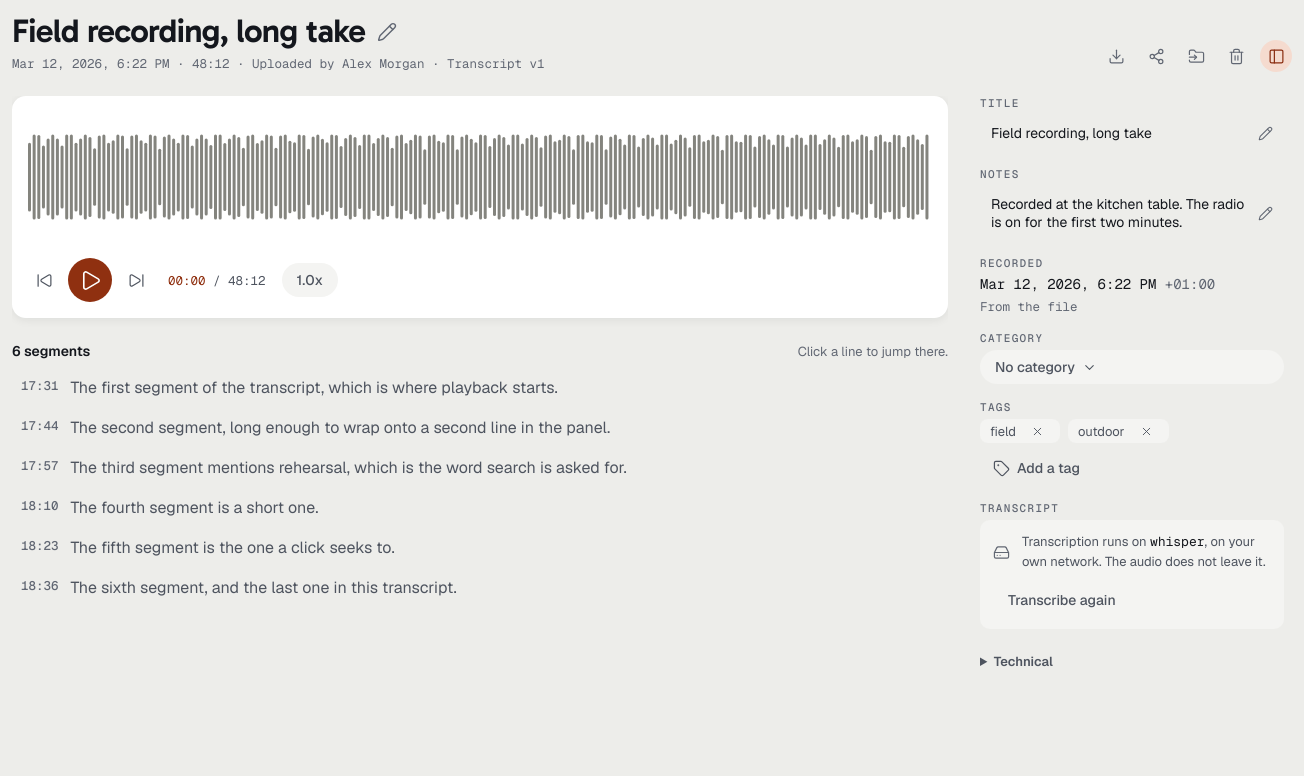
Test: the hash › copies, so the original can actually be checked
This screenshot has width=1304, height=776.
Click the heading "Technical": (1023, 662) [994,653,1053,670]
(page scrolled)
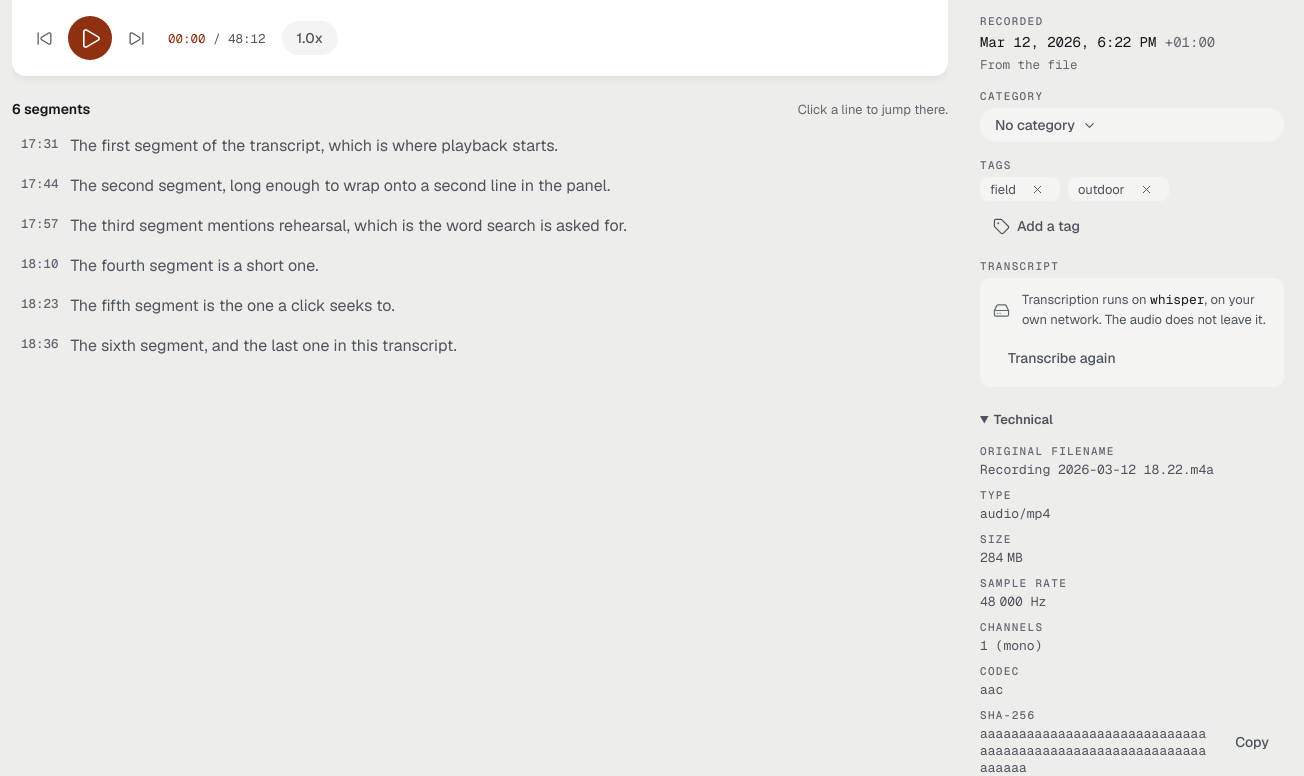
Click the button "Copy": (1252, 742) [1220,725,1284,759]
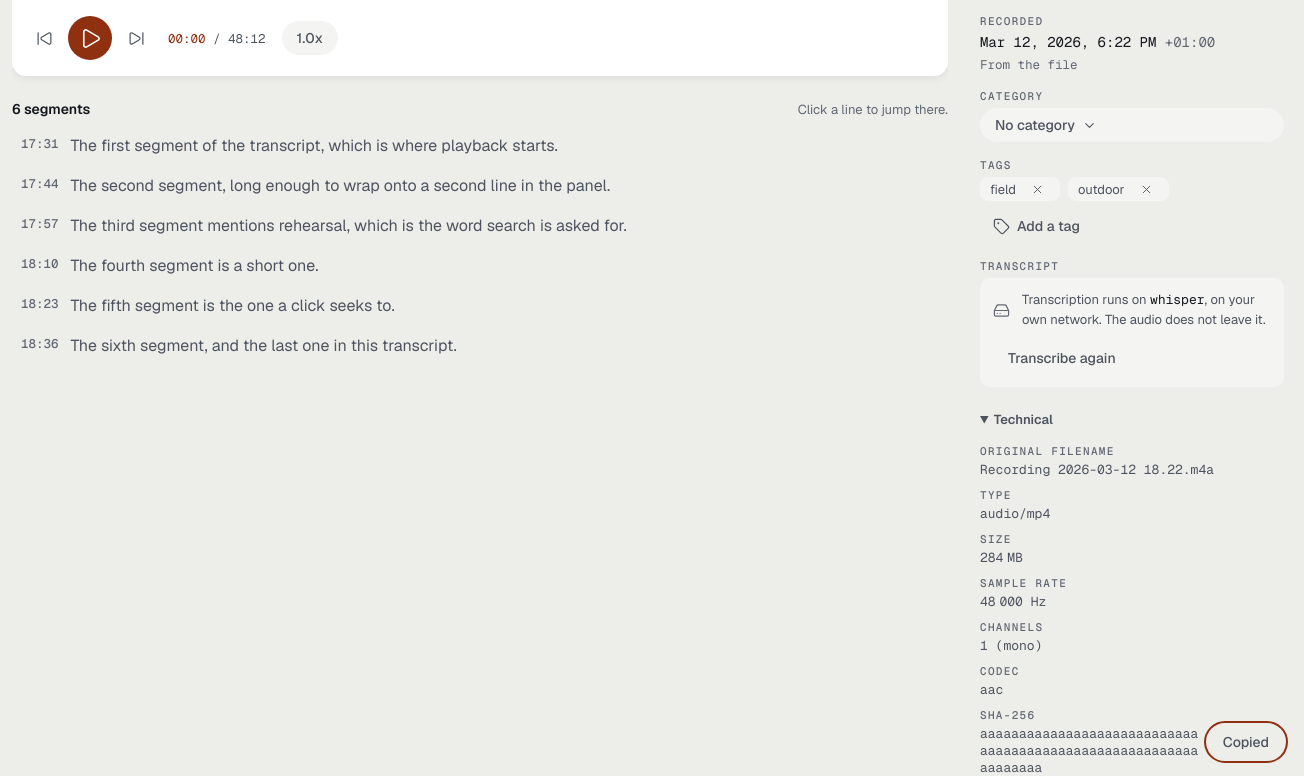
Check: the button "Copied" is shown, box [1208,725,1284,759]
